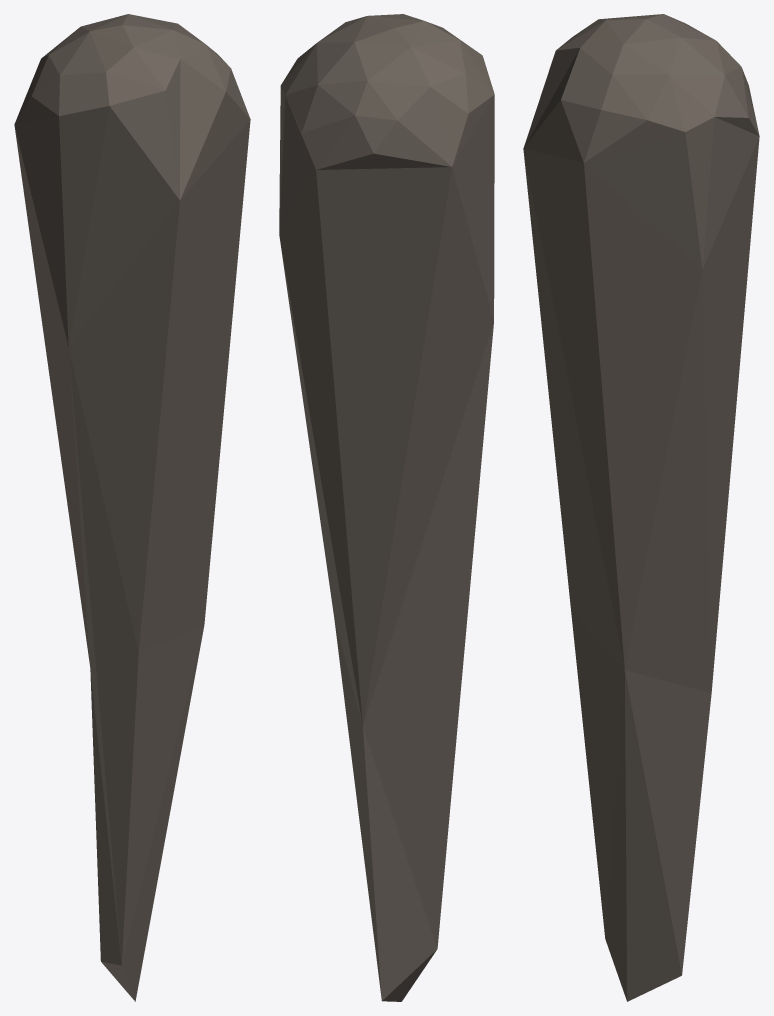
The model's file is animal_emu_blob_leg.obj.
3 renders of one model, left to right at view 1: azimuth 30°, elevation 25°; view 2: azimuth 150°, elevation 25°; view 3: azimuth 270°, elevation 25°, orthographic.
Parts seen in each view (by area): view 1: animal_emu_blob_leg; view 2: animal_emu_blob_leg; view 3: animal_emu_blob_leg.
Part boxes in pixels (box(x1,y1,x2,y2)): animal_emu_blob_leg: box(14, 14, 250, 1001); animal_emu_blob_leg: box(279, 14, 494, 1001); animal_emu_blob_leg: box(523, 14, 759, 1001).
Bounding box in the file's own units: 0.1217 × 0.6298 × 0.1374.
